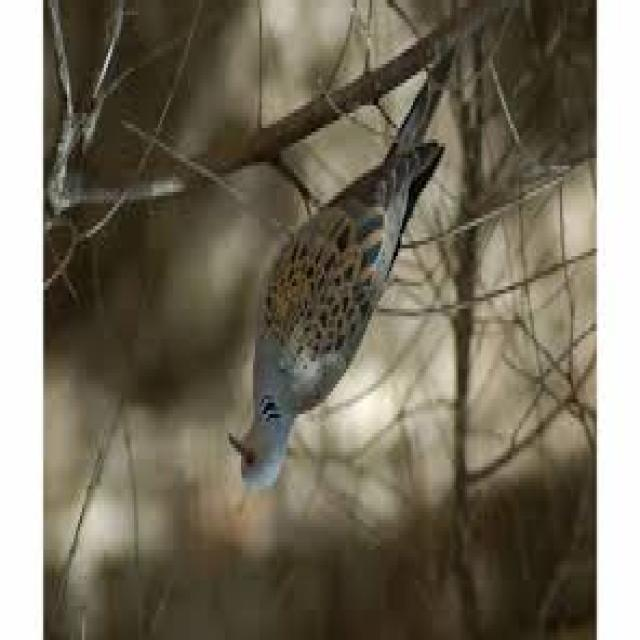pigeon: (211, 76, 450, 512)
